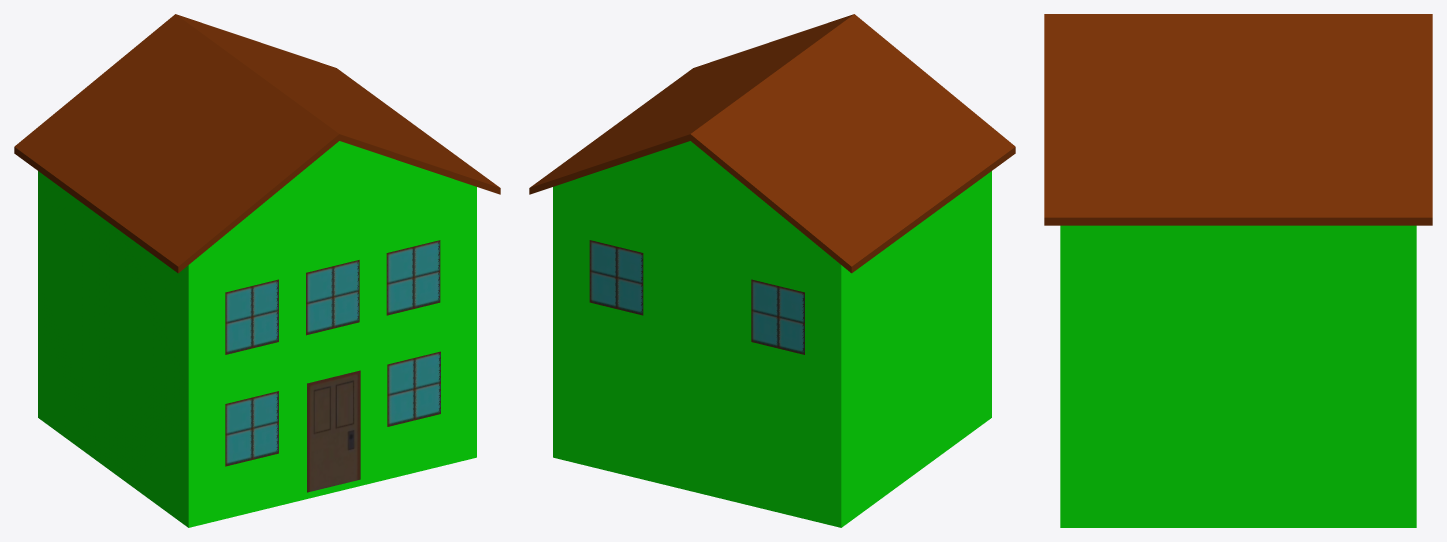
File: house.obj
The picture shows the model from 3 angles, left to right: view 1: azimuth 30°, elevation 25°; view 2: azimuth 150°, elevation 25°; view 3: azimuth 270°, elevation 25°; orthographic projection. The views are drawn at different scales.
Visible parts, largest first — view 1: SP_TD_House_SP_TD_House_Exterior_Color, SP_TD_House_SP_TD_House_Roof_Color, SP_TD_House_SP_TD_House_WIndow, SP_TD_House_SP_TD_House_Door; view 2: SP_TD_House_SP_TD_House_Exterior_Color, SP_TD_House_SP_TD_House_Roof_Color, SP_TD_House_SP_TD_House_WIndow; view 3: SP_TD_House_SP_TD_House_Exterior_Color, SP_TD_House_SP_TD_House_Roof_Color.
Part boxes in pixels (<box>): SP_TD_House_SP_TD_House_Exterior_Color: <box>38,141,476,527</box>; SP_TD_House_SP_TD_House_Roof_Color: <box>14,14,500,273</box>; SP_TD_House_SP_TD_House_WIndow: <box>225,240,440,466</box>; SP_TD_House_SP_TD_House_Door: <box>307,370,360,492</box>; SP_TD_House_SP_TD_House_Exterior_Color: <box>553,141,991,527</box>; SP_TD_House_SP_TD_House_Roof_Color: <box>529,14,1015,273</box>; SP_TD_House_SP_TD_House_WIndow: <box>589,240,804,354</box>; SP_TD_House_SP_TD_House_Exterior_Color: <box>1060,225,1416,527</box>; SP_TD_House_SP_TD_House_Roof_Color: <box>1044,14,1432,225</box>.
Bounding box in the file's own units: 8.38 × 9.03 × 7.38.
